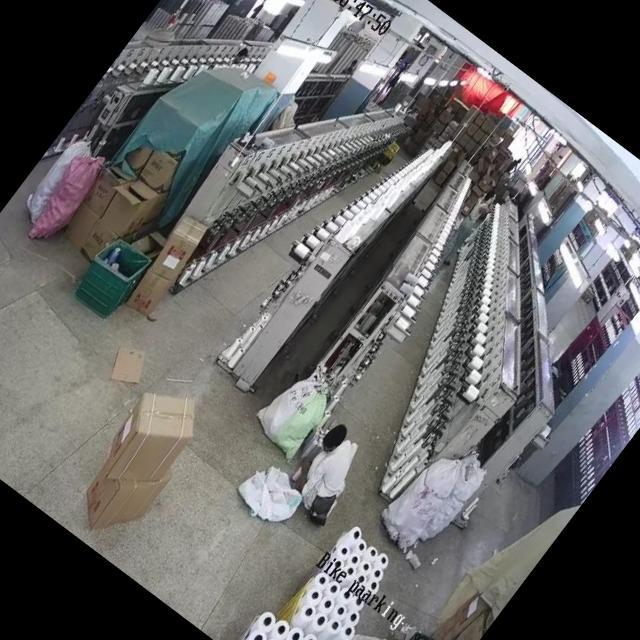person: (285, 425, 375, 523), (434, 183, 505, 269)
